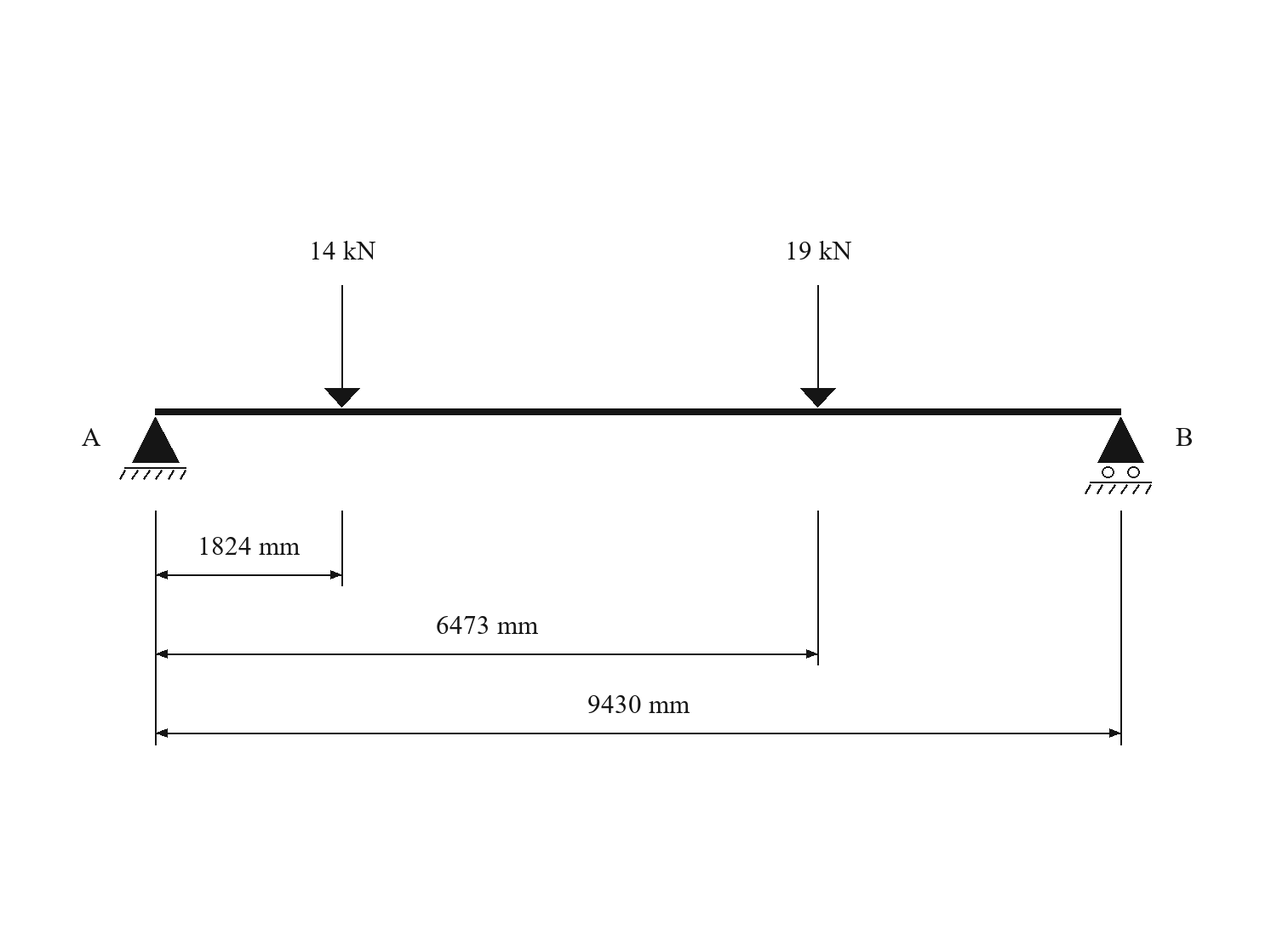pin_support: (119, 417, 186, 480)
point_load: (324, 285, 360, 408), (800, 285, 836, 408)
roller_support: (1085, 417, 1152, 494)
